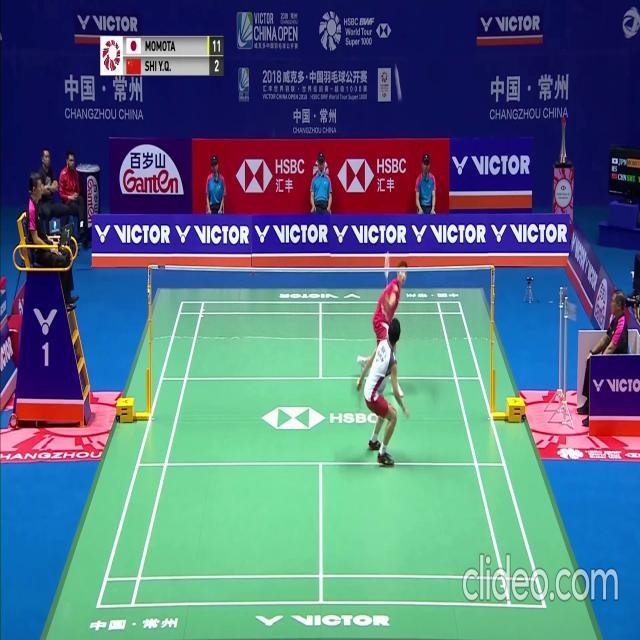Shuttlecock: (394, 70, 398, 77)
